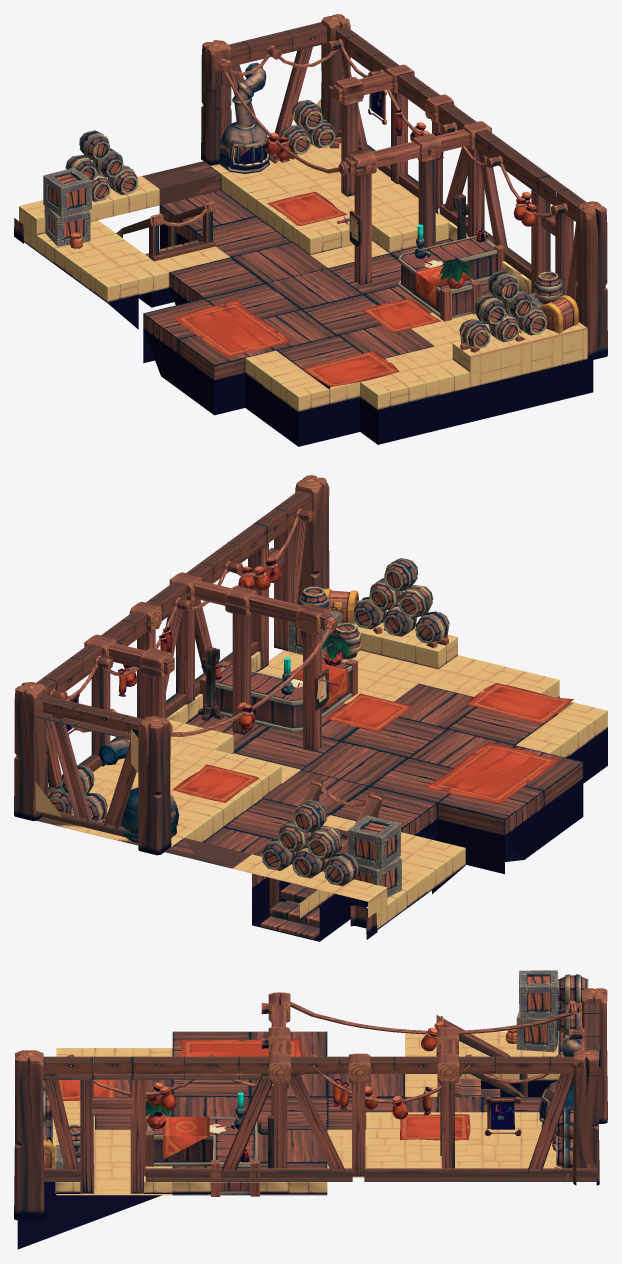
File: fantasy_game_inn.glb
3 renders of one model, top to bottom at view 1: azimuth 30°, elevation 25°; view 2: azimuth 150°, elevation 25°; view 3: azimuth 270°, elevation 25°, orthographic. The views are drawn at different scales.
Visible parts, largest first — view 1: TheInn_bakeInn_0; view 2: TheInn_bakeInn_0; view 3: TheInn_bakeInn_0.
Boxes of the visible parts, left/top/right/bottom form: TheInn_bakeInn_0: left=14, top=14, right=607, bottom=446; TheInn_bakeInn_0: left=14, top=475, right=607, bottom=941; TheInn_bakeInn_0: left=14, top=970, right=607, bottom=1249.
Size of the model in its own units: 106 by 56.41 by 153.
Materials: 1 (1 with a texture image).
